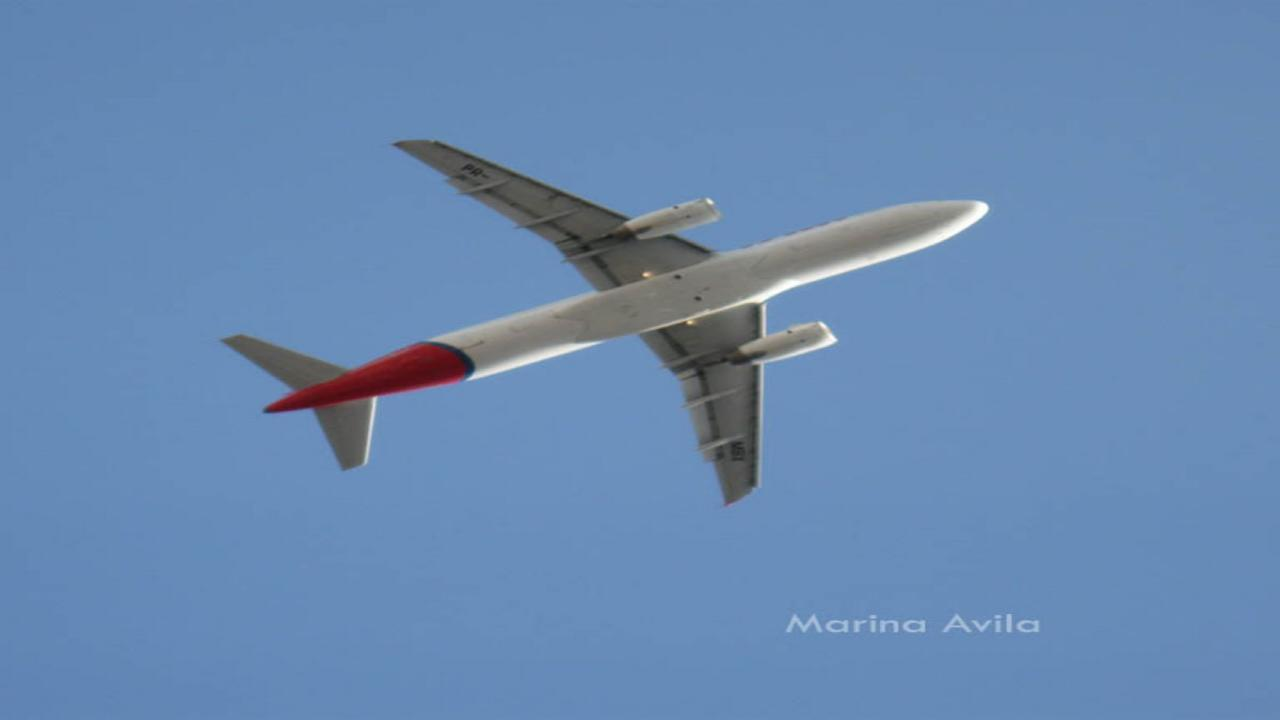Airplane: (168, 114, 1024, 524)
